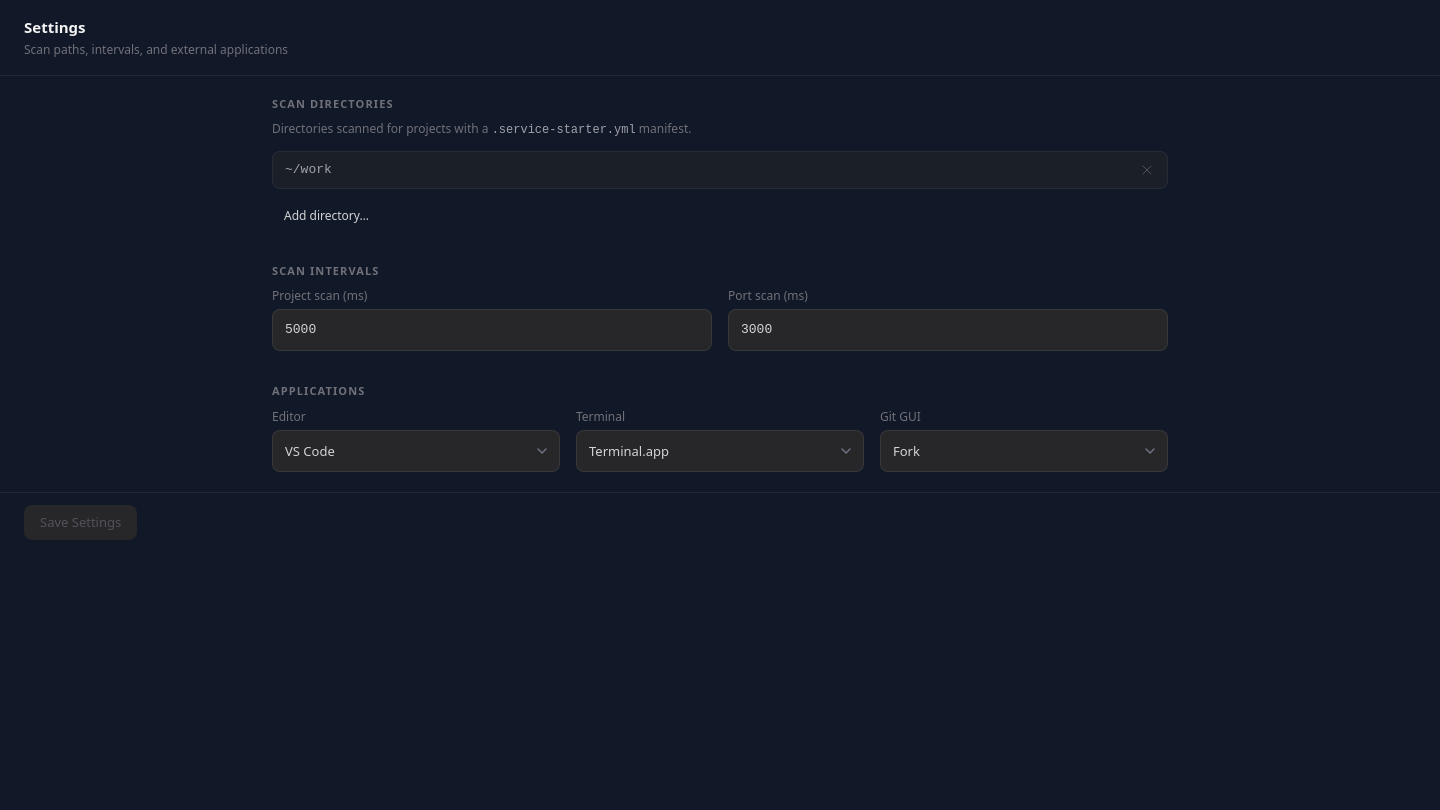
Test: SettingsView › adds a directory via the native folder picker and enables Save
This screenshot has width=1440, height=810.
expect the text "~/work" is shown: met, box [285,162,332,177]
Click the button "Add directory…".
click(326, 216)  # box [272,200,381,230]
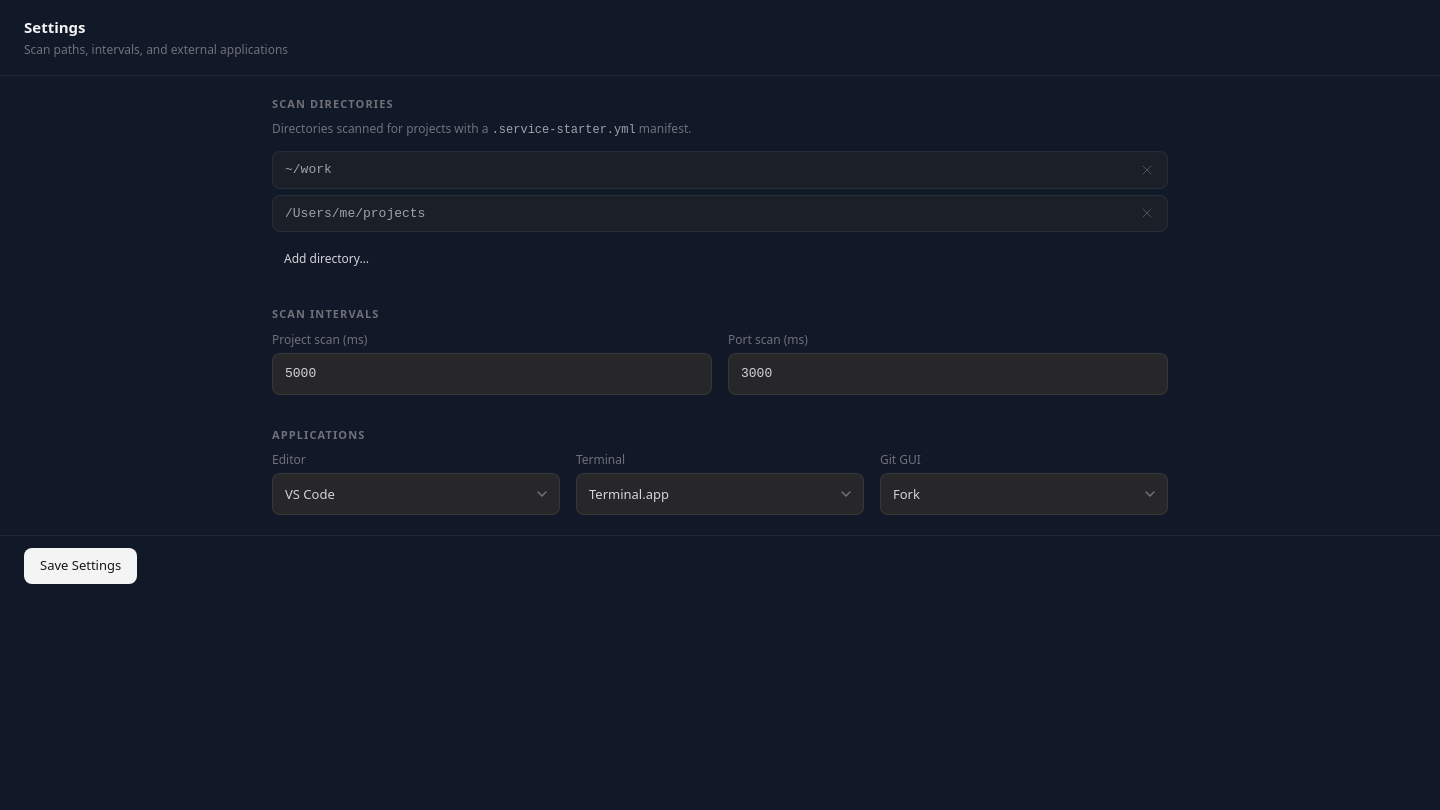
expect the text "/Users/me/projects" is shown: met, box [285,206,425,220]
expect the button "Save Settings" is enabled: met, box [24,548,137,584]
